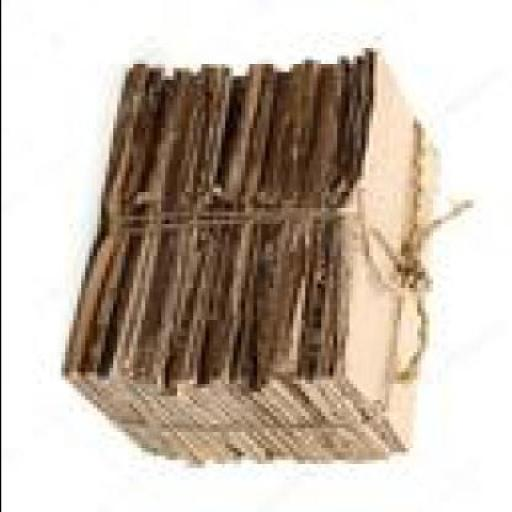cardboard: (68, 56, 424, 468), (356, 60, 444, 464)
